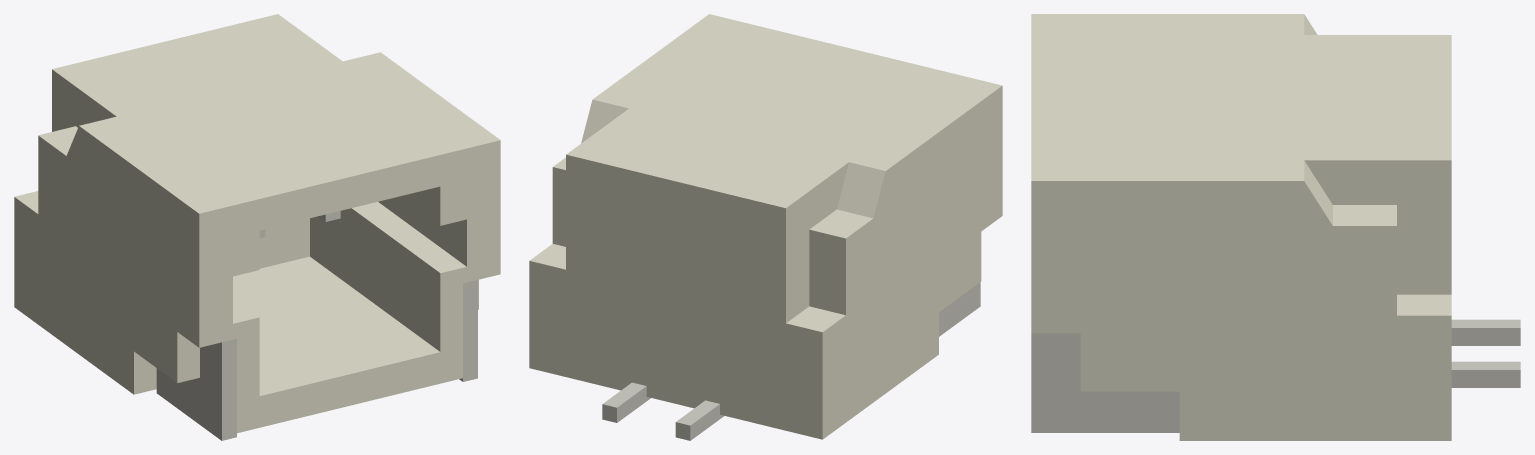
File: kc-jst_sh_sm02b-srss-tb_1x02-1mp_p1.00mm_horizontal.glb
3 renders of one model, left to right at view 1: azimuth 30°, elevation 25°; view 2: azimuth 150°, elevation 25°; view 3: azimuth 270°, elevation 25°, orthographic. The views are drawn at different scales.
Parts seen in each view (by area): view 1: 0.75_0.75_0.6666666666666666_0, 0.6666666666666666_0.6666666666666666_0.5833333333333334_0.8; view 2: 0.75_0.75_0.6666666666666666_0, 0.6666666666666666_0.6666666666666666_0.5833333333333334_0.8; view 3: 0.75_0.75_0.6666666666666666_0, 0.6666666666666666_0.6666666666666666_0.5833333333333334_0.8.
Part boxes in pixels (bbox=[...]): 0.75_0.75_0.6666666666666666_0: bbox=[14, 14, 500, 433]; 0.6666666666666666_0.6666666666666666_0.5833333333333334_0.8: bbox=[156, 211, 477, 440]; 0.75_0.75_0.6666666666666666_0: bbox=[529, 14, 1002, 439]; 0.6666666666666666_0.6666666666666666_0.5833333333333334_0.8: bbox=[602, 282, 980, 440]; 0.75_0.75_0.6666666666666666_0: bbox=[1031, 14, 1451, 440]; 0.6666666666666666_0.6666666666666666_0.5833333333333334_0.8: bbox=[1031, 319, 1520, 432].
Bounding box in the file's own units: 0.4 × 0.296 × 0.495.
